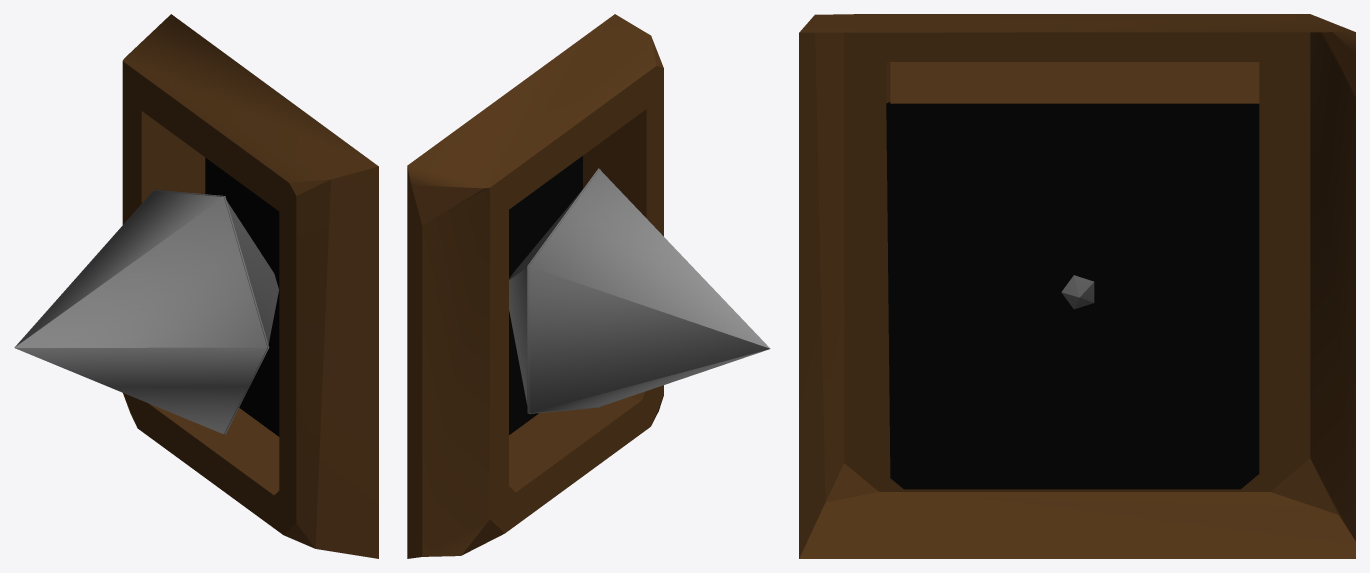
The model's file is lance_fleche.FBX.
3 renders of one model, left to right at view 1: azimuth 30°, elevation 25°; view 2: azimuth 150°, elevation 25°; view 3: azimuth 270°, elevation 25°, orthographic. The views are drawn at different scales.
Parts seen in each view (by area): view 1: lance_fleche, lance_fleche_pointes; view 2: lance_fleche, lance_fleche_pointes; view 3: lance_fleche, lance_fleche_pointes.
Boxes of the visible parts, box(x1,y1,x2,y2) form: lance_fleche: box(122, 14, 378, 558); lance_fleche_pointes: box(14, 189, 278, 434); lance_fleche: box(407, 14, 663, 558); lance_fleche_pointes: box(509, 168, 770, 413); lance_fleche: box(799, 14, 1355, 558); lance_fleche_pointes: box(1061, 275, 1094, 309).
Bounding box in the file's own units: 22 × 31.02 × 29.71.
